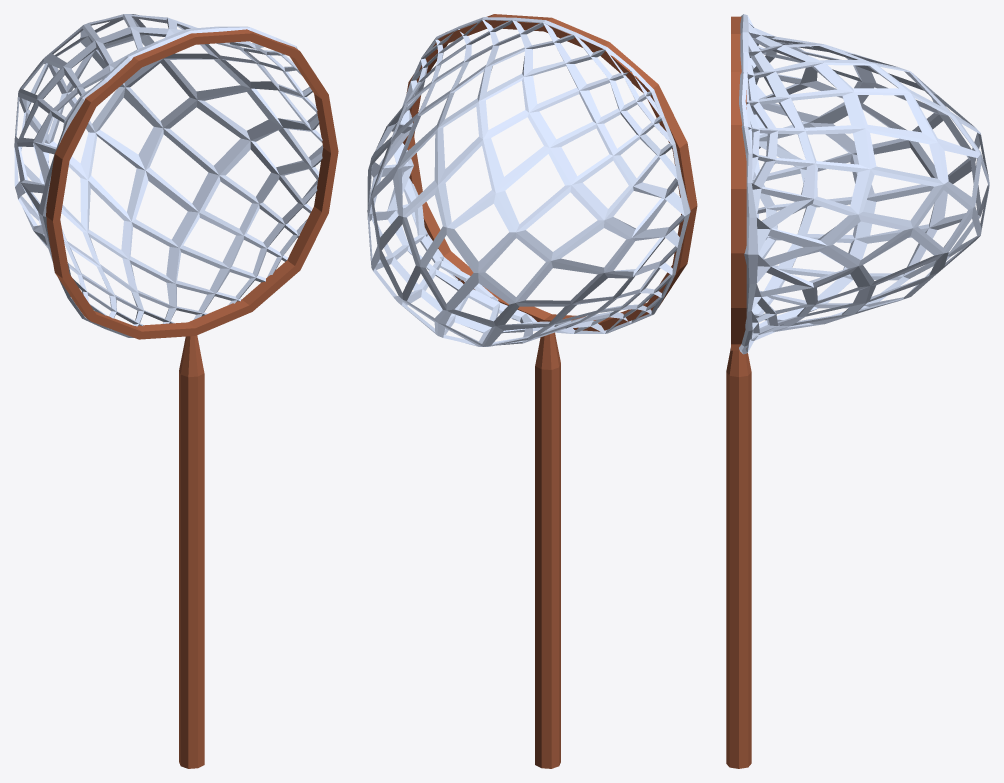
The model's file is Jaring_Model.fbx.
3 views of the same model, side by side, from view 1: azimuth 30°, elevation 25°; view 2: azimuth 150°, elevation 25°; view 3: azimuth 270°, elevation 25° (orthographic).
Visible parts, largest first — view 1: Plane.005; view 2: Plane.005; view 3: Plane.005.
Part boxes in pixels (x1,y1,x2,y2): Plane.005: [14, 14, 338, 768]; Plane.005: [367, 14, 697, 768]; Plane.005: [726, 14, 989, 768].
Bounding box in the file's own units: 20.76 × 50.27 × 16.42.
